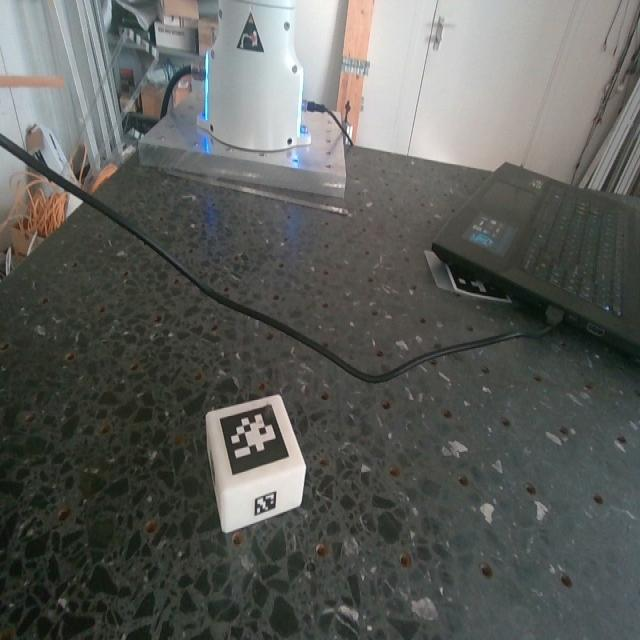Cube: (207, 395, 307, 536)
